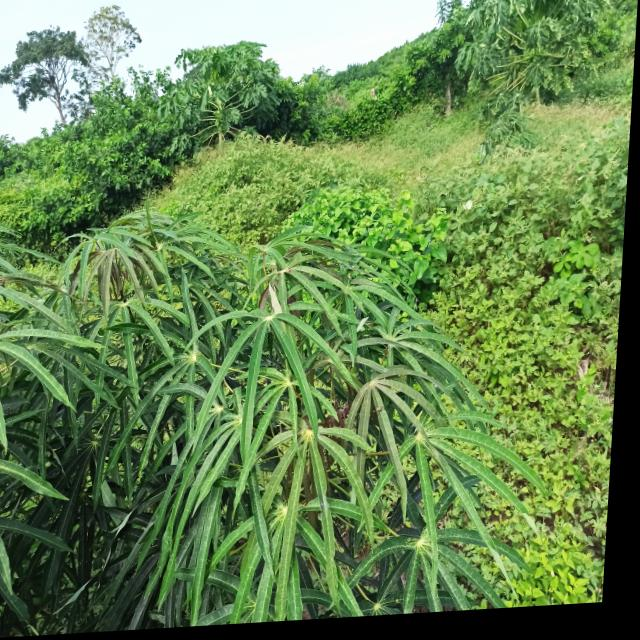Maleza: (295, 49, 622, 181), (453, 131, 614, 364), (3, 81, 240, 191), (203, 134, 487, 225), (514, 329, 591, 460), (548, 435, 601, 598)
Mosca: (99, 450, 114, 466), (371, 401, 385, 418), (301, 334, 315, 351), (22, 339, 35, 357), (276, 396, 290, 409), (396, 541, 409, 555), (436, 498, 445, 516)
